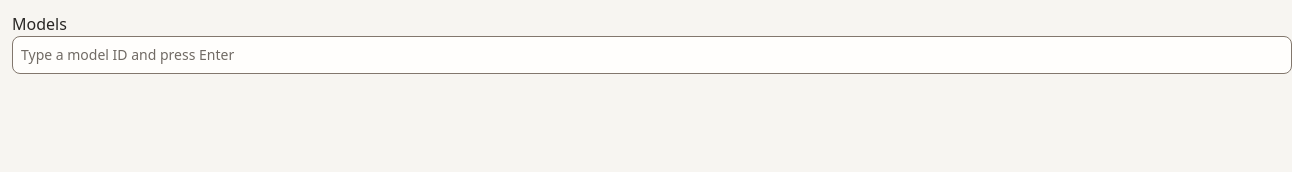
Test case: TagInput › turns typed text into a tag when the field loses focus
Type "pending-model" into the field labelled "Models" at (652, 55), box [21,43,1283,67]
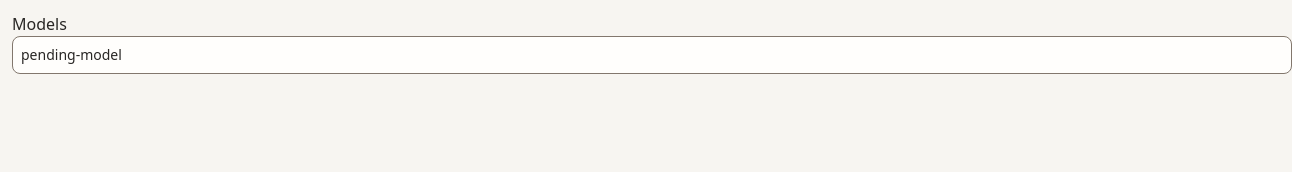
Leave the field labelled "Models", box [21,43,1283,67]
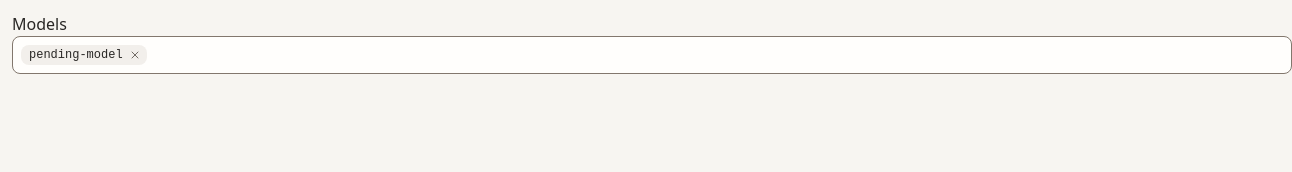
expect the text "pending-model" is shown: met, box [29,47,123,63]
